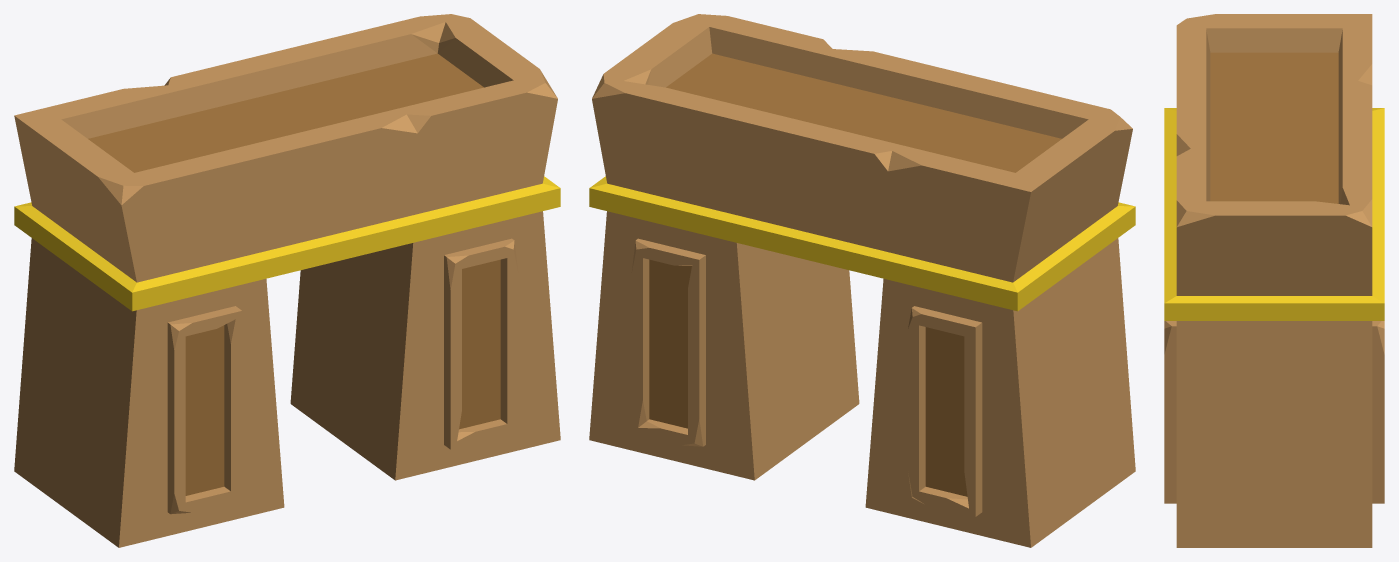
Rendered from egypt_egypt-gate.fbx.
3 renders of one model, left to right at view 1: azimuth 30°, elevation 25°; view 2: azimuth 150°, elevation 25°; view 3: azimuth 270°, elevation 25°, orthographic. The views are drawn at different scales.
Parts seen in each view (by area): view 1: egypt_egypt_gate; view 2: egypt_egypt_gate; view 3: egypt_egypt_gate.
Part boxes in pixels (bbox=[...]): egypt_egypt_gate: bbox=[14, 14, 560, 547]; egypt_egypt_gate: bbox=[589, 14, 1135, 547]; egypt_egypt_gate: bbox=[1164, 14, 1384, 547].
Bounding box in the file's own units: 200 × 154 × 92.33.
